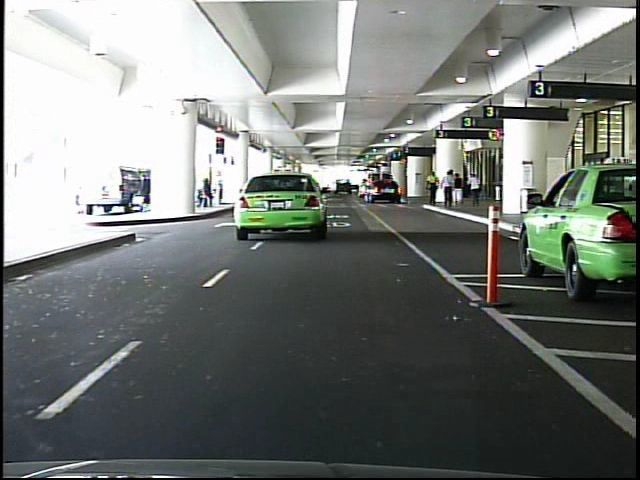person: (467, 168, 486, 211), (440, 166, 456, 212), (425, 166, 442, 209), (453, 172, 465, 212)
